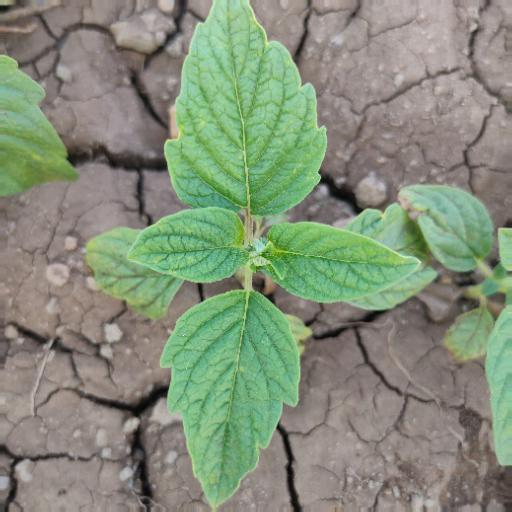crop: (74, 5, 438, 512)
